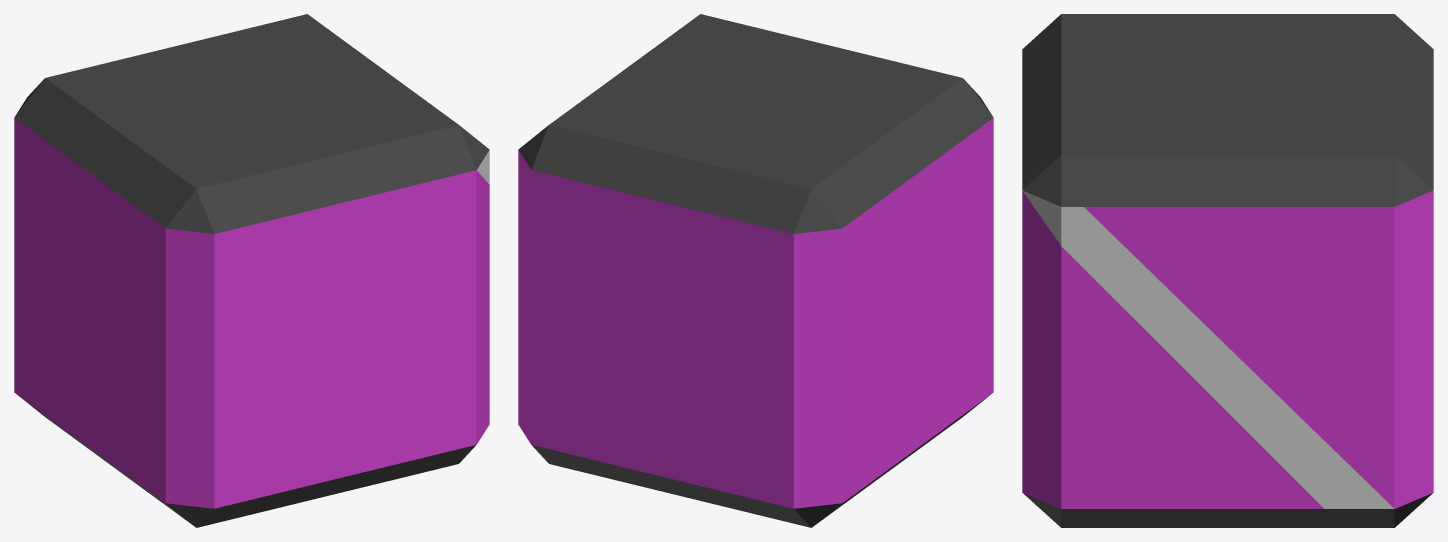
File: BigCase5.fbx
The picture shows the model from 3 angles, left to right: view 1: azimuth 30°, elevation 25°; view 2: azimuth 150°, elevation 25°; view 3: azimuth 270°, elevation 25°; orthographic projection. The views are drawn at different scales.
Parts seen in each view (by area): view 1: Cube.037; view 2: Cube.037; view 3: Cube.037.
Part boxes in pixels (left/top/right/bottom): Cube.037: left=14, top=14, right=489, bottom=527; Cube.037: left=518, top=14, right=993, bottom=527; Cube.037: left=1022, top=14, right=1433, bottom=527.
Bounding box in the file's own units: 72.28 × 72.28 × 72.28.
